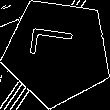L_E: (30, 33, 85, 71)
